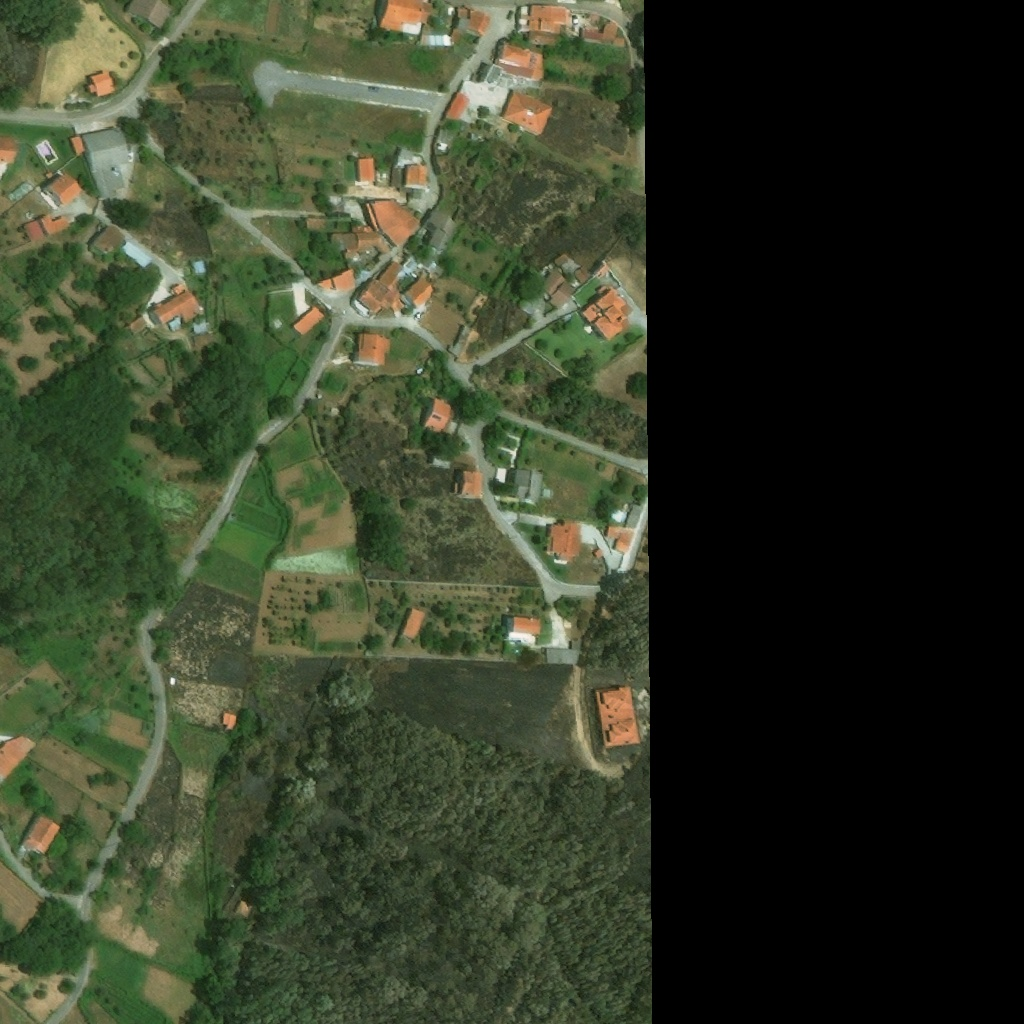0 no-damage: (326, 197, 421, 255), (350, 255, 435, 319), (80, 125, 133, 207), (578, 283, 632, 341), (415, 206, 461, 273), (147, 281, 204, 334), (593, 685, 640, 748), (500, 90, 554, 136), (375, 0, 431, 37), (521, 5, 574, 44), (493, 42, 544, 81), (387, 144, 427, 192), (542, 519, 582, 564), (0, 735, 36, 783), (542, 250, 591, 285), (538, 269, 576, 310), (123, 0, 174, 30), (352, 331, 392, 368), (485, 64, 543, 88), (20, 814, 55, 853), (48, 171, 84, 206), (511, 468, 544, 505), (580, 21, 625, 47), (92, 223, 127, 256), (504, 615, 541, 646), (422, 398, 451, 433), (83, 68, 117, 97), (36, 820, 62, 857), (119, 238, 152, 267), (35, 212, 69, 237), (605, 526, 635, 554), (317, 270, 355, 292), (447, 325, 471, 358), (400, 609, 423, 643), (462, 9, 489, 37), (545, 647, 583, 666), (445, 93, 469, 119), (461, 469, 483, 496), (420, 27, 453, 45), (87, 221, 112, 244), (21, 219, 46, 242), (294, 312, 318, 335), (0, 135, 18, 163), (44, 185, 65, 208), (9, 181, 32, 202), (395, 606, 411, 636), (66, 131, 85, 156), (624, 503, 642, 529), (128, 315, 150, 336), (358, 157, 374, 182), (591, 260, 610, 280), (221, 711, 238, 732), (429, 452, 453, 466), (453, 469, 466, 494), (189, 256, 207, 273), (233, 900, 250, 917), (290, 310, 307, 326), (493, 467, 506, 486), (38, 864, 53, 880), (307, 219, 326, 231), (194, 319, 208, 333), (268, 317, 282, 331), (455, 6, 468, 20), (354, 157, 360, 182), (194, 335, 209, 345), (591, 548, 603, 560), (436, 140, 448, 152), (467, 133, 478, 144), (614, 510, 626, 520), (583, 324, 593, 334), (331, 407, 341, 416), (543, 489, 553, 497), (317, 309, 325, 317), (45, 169, 52, 178), (417, 368, 424, 374), (572, 643, 579, 649), (170, 677, 175, 685), (318, 392, 323, 398)
3 destroyed: (589, 14, 598, 20)
4 un-classified: (336, 212, 351, 225), (249, 183, 261, 198), (325, 195, 341, 204), (562, 313, 573, 322), (365, 651, 373, 656)
